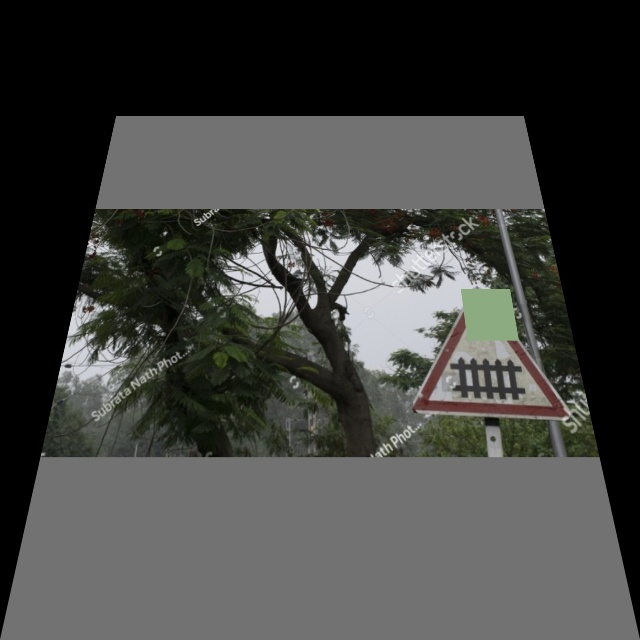Guarded_Level_Crossing: (405, 288, 567, 419)
